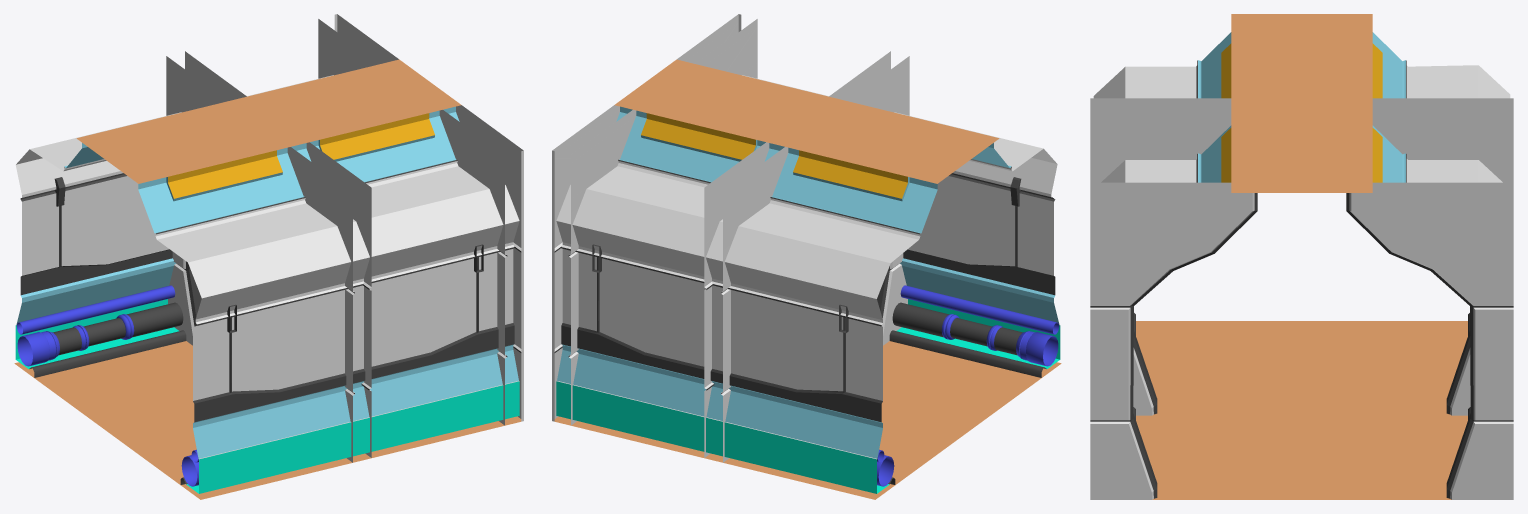
File: HallWall_WithDoorR.fbx
3 views of the same model, side by side, from view 1: azimuth 30°, elevation 25°; view 2: azimuth 150°, elevation 25°; view 3: azimuth 270°, elevation 25° (orthographic). The views are drawn at different scales.
Visible parts, largest first — view 1: HallWall_WithDoorR; view 2: HallWall_WithDoorR; view 3: HallWall_WithDoorR.
Part boxes in pixels (bbox=[...]): HallWall_WithDoorR: bbox=[14, 14, 523, 499]; HallWall_WithDoorR: bbox=[552, 14, 1061, 499]; HallWall_WithDoorR: bbox=[1090, 14, 1513, 499].
Bounding box in the file's own units: 6 × 4.8 × 6.
